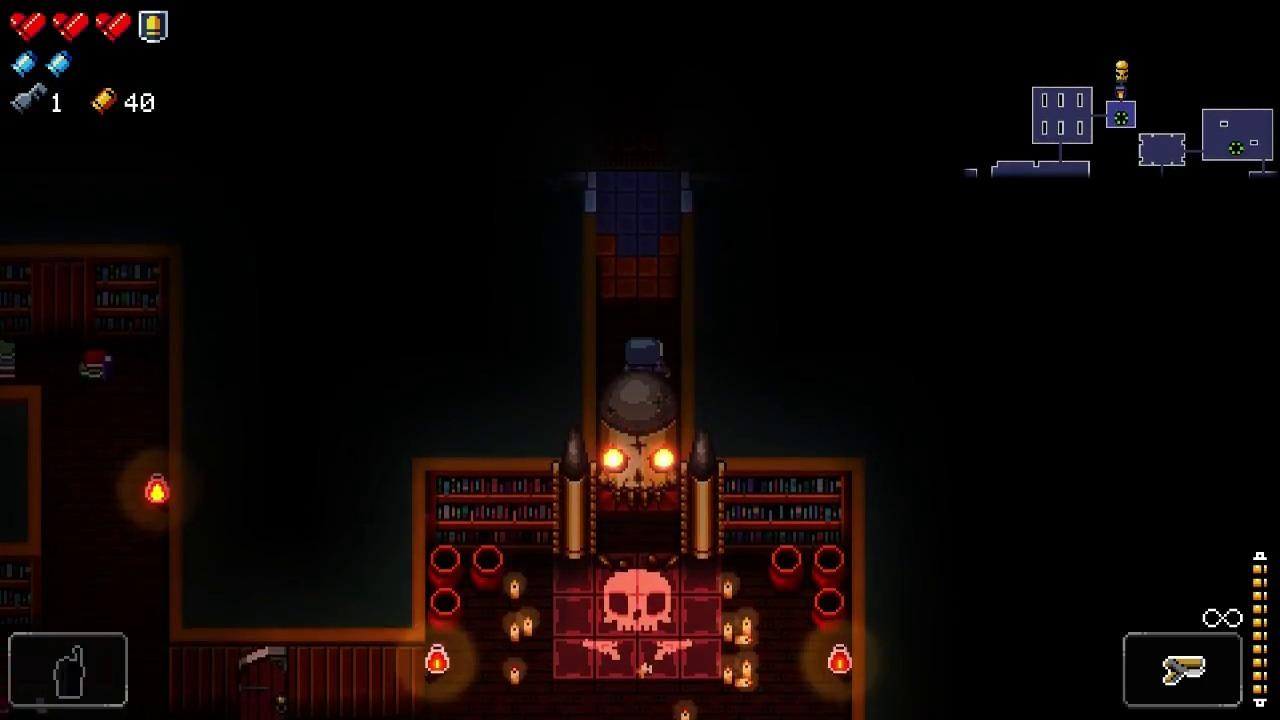boss_entry: (556, 552, 722, 678)
player: (627, 337, 662, 371)
unlocked_door: (238, 644, 286, 720)
